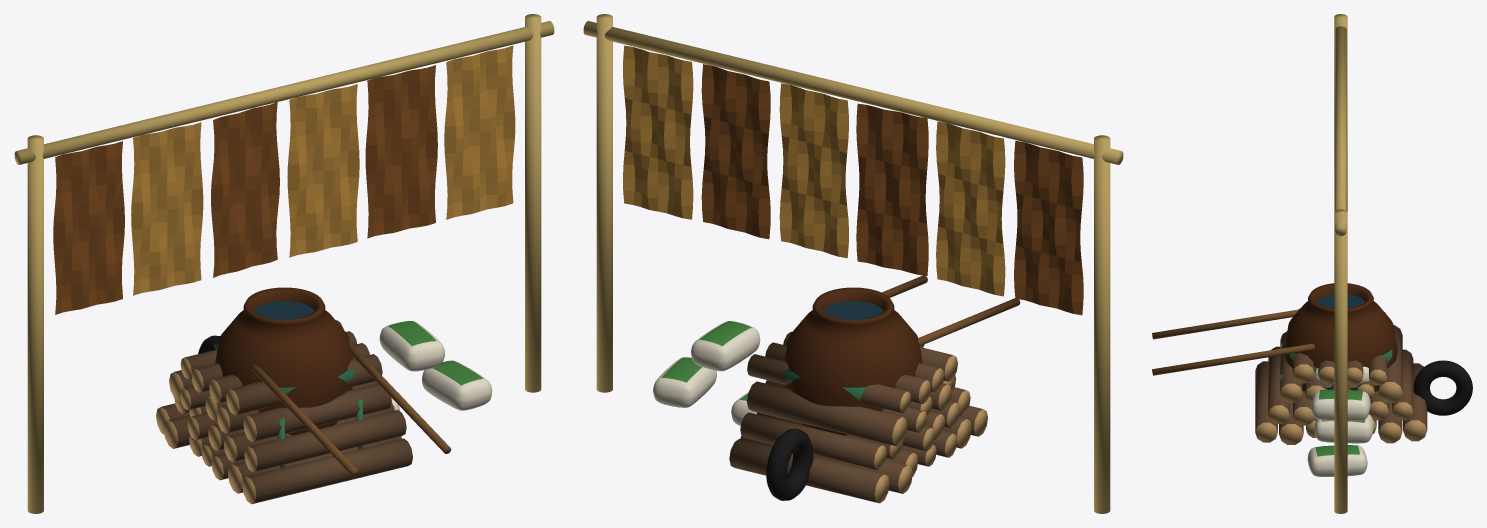
The model's file is props.glb.
The picture shows the model from 3 angles, left to right: view 1: azimuth 30°, elevation 25°; view 2: azimuth 150°, elevation 25°; view 3: azimuth 270°, elevation 25°; orthographic projection. The views are drawn at different scales.
Visible parts, largest first — view 1: rack, woodpile, jar, sacks, barrow; view 2: rack, woodpile, jar, sacks, barrow; view 3: woodpile, rack, jar, barrow, sacks.
Part boxes in pixels (x1=…): rack: x1=14, y1=14, x2=554, y2=513; woodpile: x1=156, y1=320, x2=412, y2=504; jar: x1=215, y1=287, x2=352, y2=435; sacks: x1=379, y1=321, x2=492, y2=410; barrow: x1=198, y1=335, x2=451, y2=476; rack: x1=583, y1=14, x2=1123, y2=513; woodpile: x1=729, y1=331, x2=987, y2=503; jar: x1=784, y1=287, x2=922, y2=435; sacks: x1=653, y1=321, x2=765, y2=426; barrow: x1=766, y1=275, x2=1020, y2=500; woodpile: x1=1255, y1=308, x2=1427, y2=444; rack: x1=1334, y1=14, x2=1347, y2=513; jar: x1=1284, y1=283, x2=1397, y2=391; barrow: x1=1152, y1=309, x2=1472, y2=415; sacks: x1=1307, y1=366, x2=1373, y2=476.
Bounding box in the file's own units: 3 × 2.01 × 1.94.
